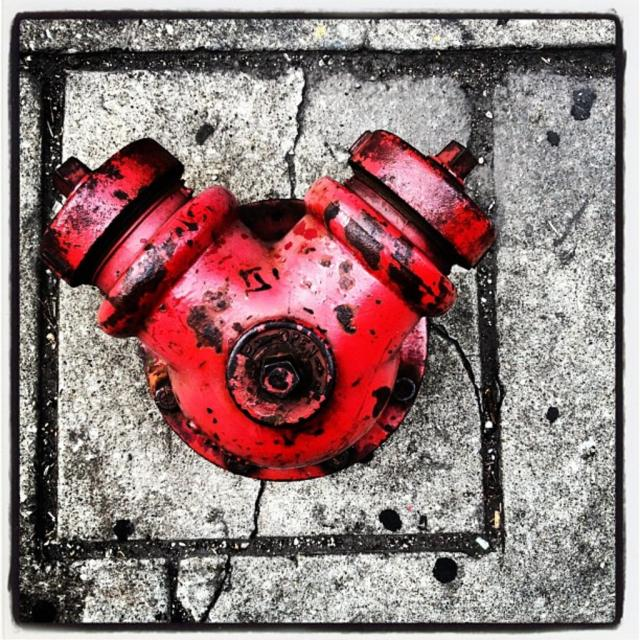fire_hydrant: (37, 137, 494, 479)
